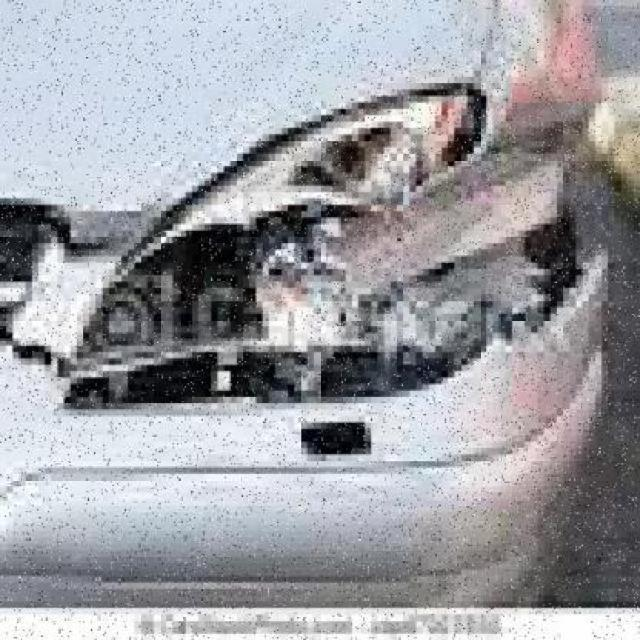Headlight-Damage: (0, 77, 634, 421)
